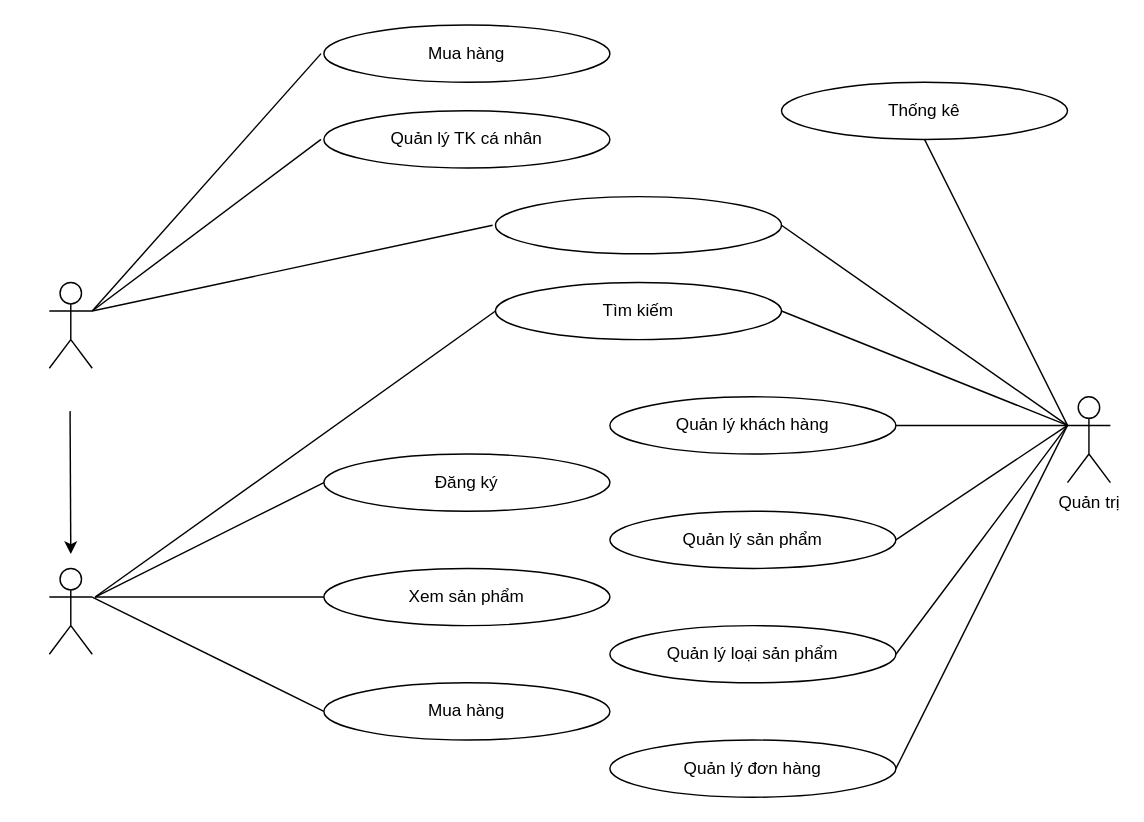
This 1144x822 diagram has some shape labels left out. Each missing label, with the box of its shape:
Khách hàng: (48, 281, 92, 368)
Khách xem: (48, 567, 92, 654)
Đăng nhập, Đăng xuất: (494, 195, 781, 254)
